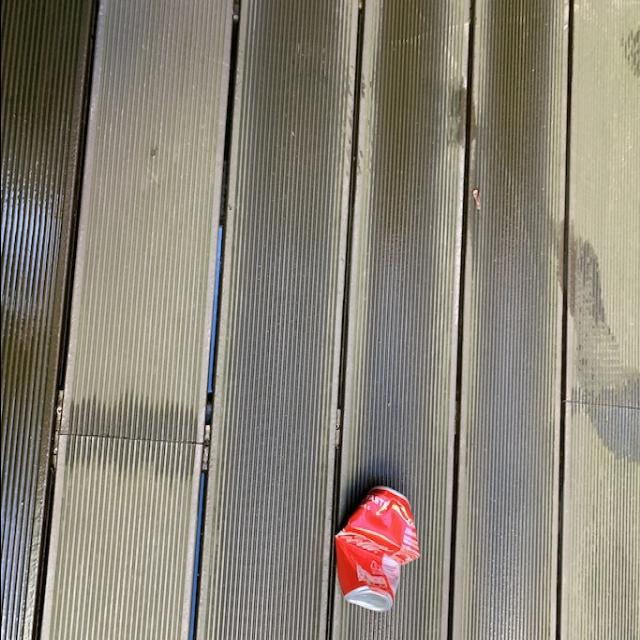litter: (333, 476, 422, 614)
